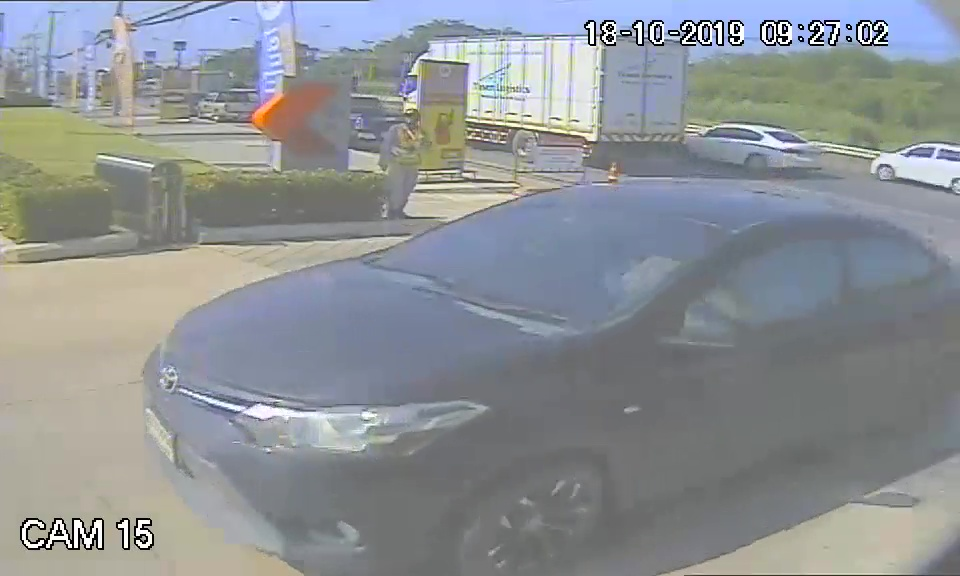sedan: (141, 176, 952, 565)
